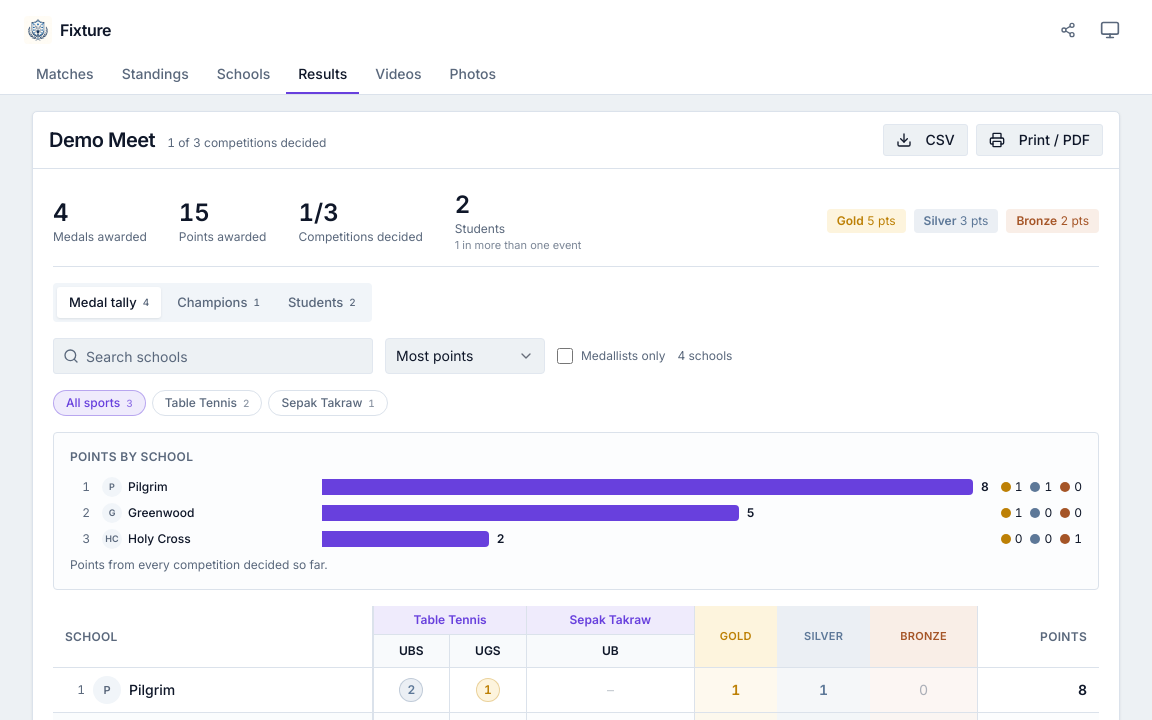
Test: PublicResultsPage › carries the view and the filters in the URL so a board is shareable
Click the tab with test id "results-view-students".
click(322, 302)  # box [276,286,368,318]
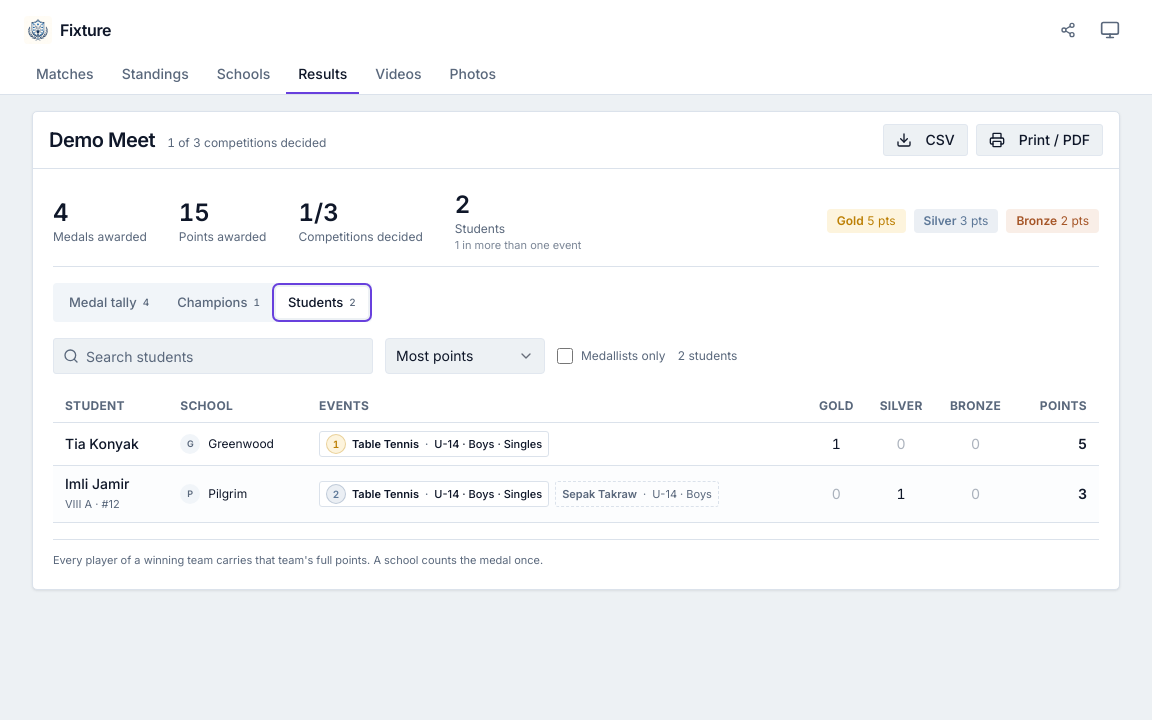
Expected: the table with test id "students-table" is shown, [53,390,1099,523]
